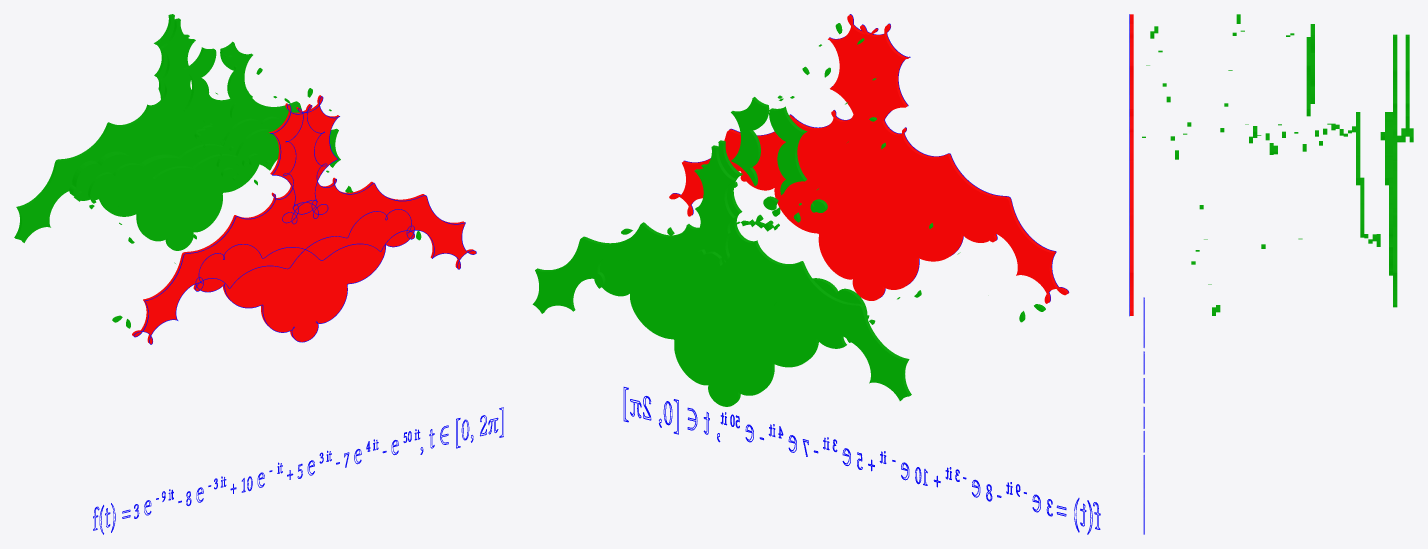
The model's file is Splitting.glb.
The picture shows the model from 3 angles, left to right: view 1: azimuth 30°, elevation 25°; view 2: azimuth 150°, elevation 25°; view 3: azimuth 270°, elevation 25°; orthographic projection. The views are drawn at different scales.
Size of the model in its own units: 1.2 by 1.09 by 0.6909.
